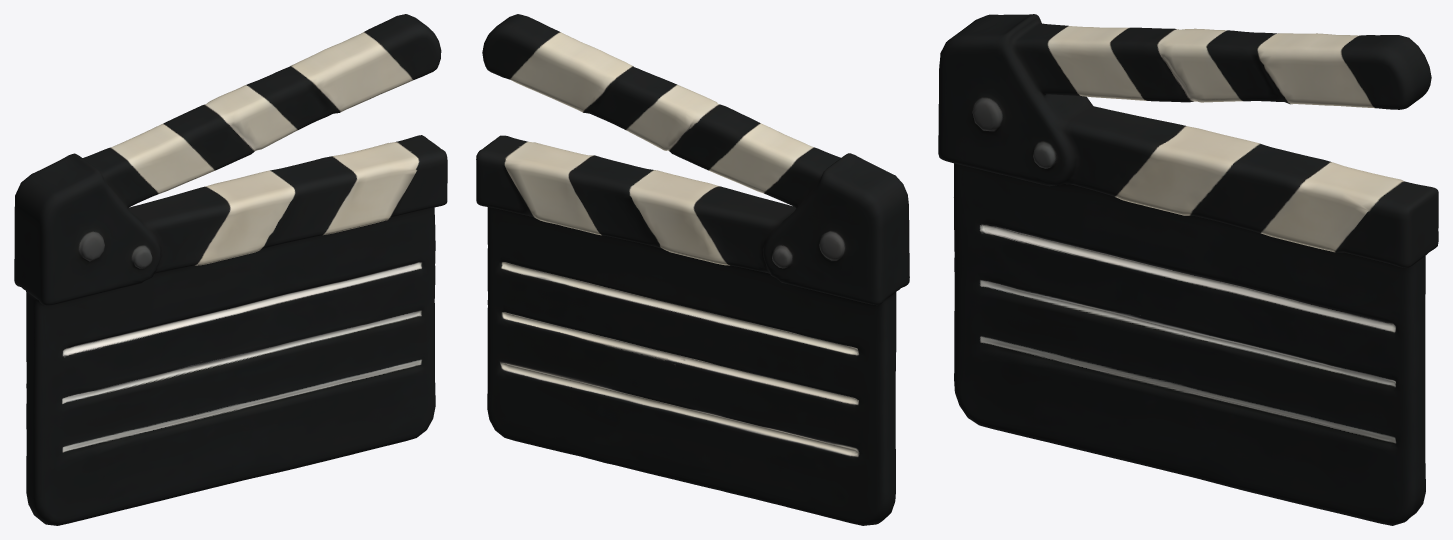
Rendered from 11_director_slate.glb.
3 views of the same model, side by side, from view 1: azimuth 30°, elevation 25°; view 2: azimuth 150°, elevation 25°; view 3: azimuth 330°, elevation 25° (orthographic). The views are drawn at different scales.
Parts seen in each view (by area): view 1: 11_director_slate; view 2: 11_director_slate; view 3: 11_director_slate.
Boxes of the visible parts, left/top/right/bottom form: 11_director_slate: left=14, top=14, right=447, bottom=525; 11_director_slate: left=476, top=14, right=909, bottom=525; 11_director_slate: left=938, top=14, right=1438, bottom=525.
Bounding box in the file's own units: 0.3 × 0.294 × 0.0515.
1 material, 1 textured.
